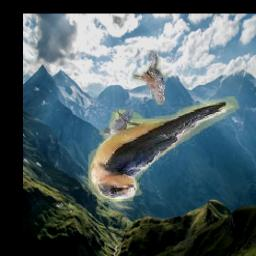Sparrow: (134, 51, 166, 106)
Swallow: (88, 97, 241, 206)
